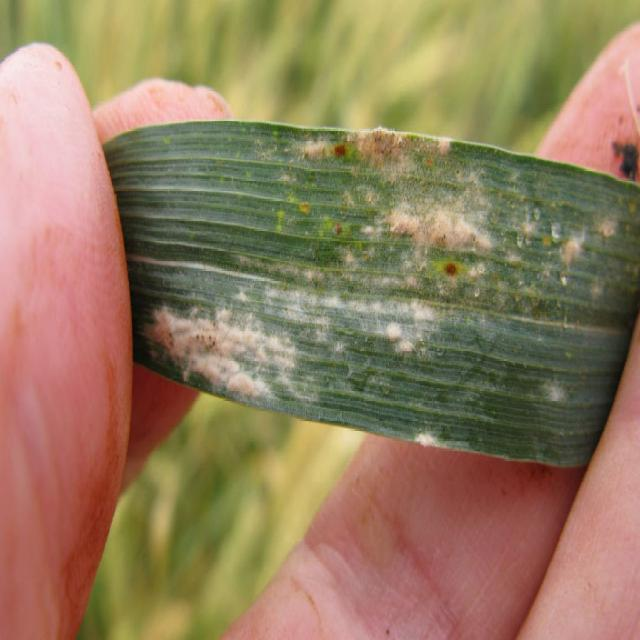wheat-powdery-mildew: (265, 231, 438, 356), (144, 307, 315, 408), (381, 204, 491, 256), (353, 131, 452, 173), (443, 172, 494, 251), (217, 293, 291, 341), (412, 429, 454, 449), (560, 239, 581, 267), (598, 216, 618, 241)
wheat-stemrust: (442, 263, 458, 279), (334, 143, 347, 161)
